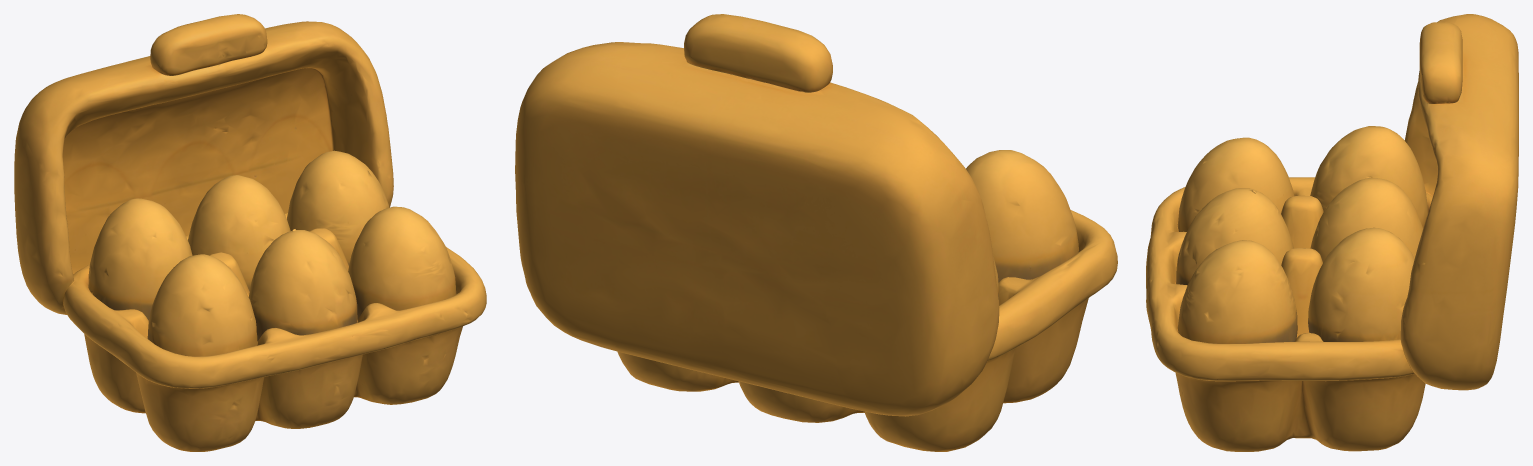
File: eggs.glb
3 renders of one model, left to right at view 1: azimuth 30°, elevation 25°; view 2: azimuth 150°, elevation 25°; view 3: azimuth 270°, elevation 25°, orthographic. The views are drawn at different scales.
Size of the model in its own units: 0.9788 by 0.8592 by 0.8364.
1 material, 1 textured.
